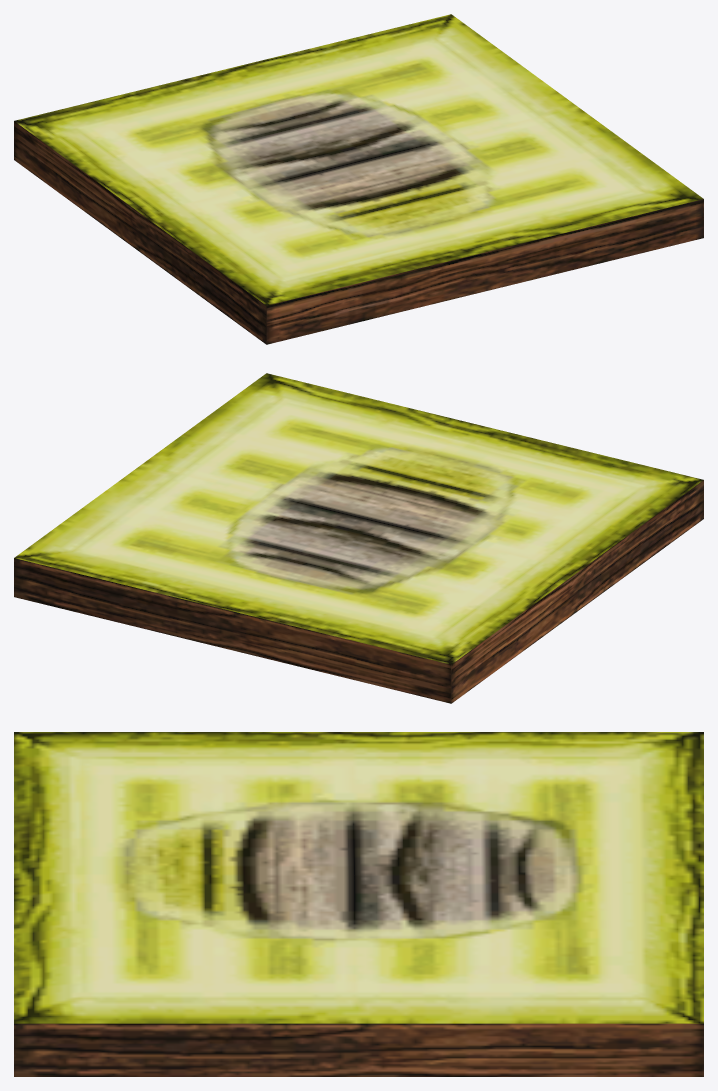
Rendered from INST_LT_PPLATELITE_ON.fbx.
3 renders of one model, top to bottom at view 1: azimuth 30°, elevation 25°; view 2: azimuth 150°, elevation 25°; view 3: azimuth 270°, elevation 25°, orthographic. The views are drawn at different scales.
Visible parts, largest first — view 1: INST_LT_PPLATELITE_ON; view 2: INST_LT_PPLATELITE_ON; view 3: INST_LT_PPLATELITE_ON.
Boxes of the visible parts, x1,y1,x2,y2 form: INST_LT_PPLATELITE_ON: (14, 14, 703, 344); INST_LT_PPLATELITE_ON: (14, 373, 703, 703); INST_LT_PPLATELITE_ON: (14, 732, 703, 1076).
Bounding box in the file's own units: 20000 × 1705 × 20000.
2 materials, 2 textured.
